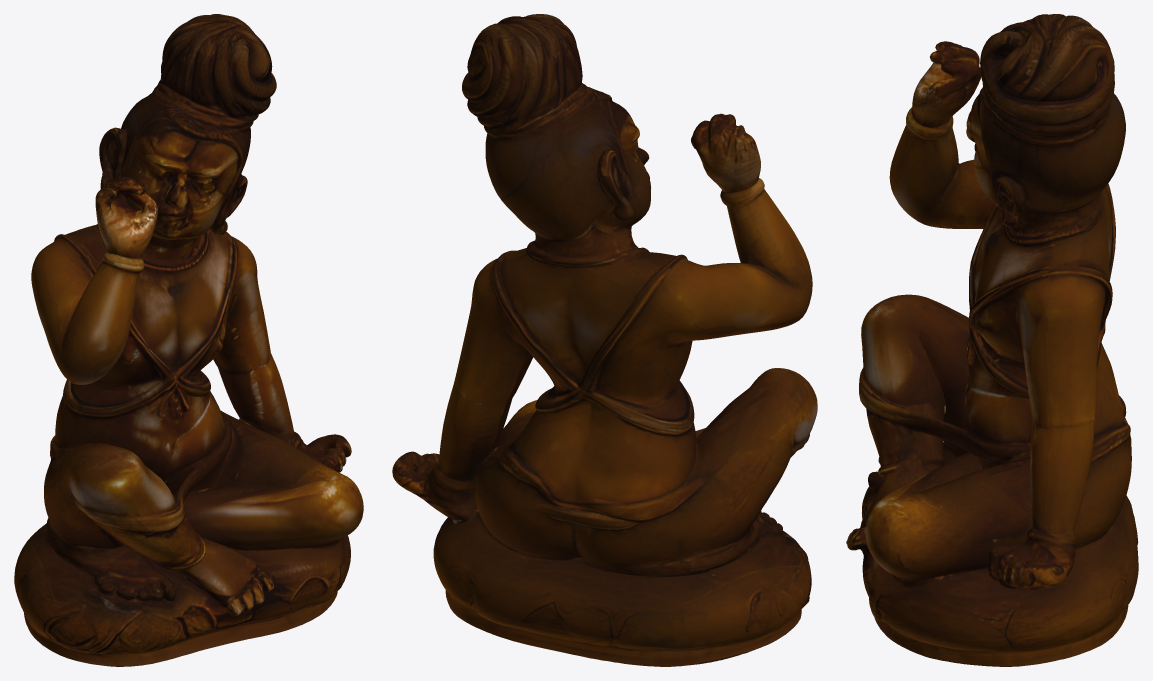
The picture shows the model from 3 angles, left to right: view 1: azimuth 30°, elevation 25°; view 2: azimuth 150°, elevation 25°; view 3: azimuth 270°, elevation 25°; orthographic projection. The views are drawn at different scales.
Visible parts, largest first — view 1: textured_mesh; view 2: textured_mesh; view 3: textured_mesh.
Part boxes in pixels (bbox=[...]): textured_mesh: bbox=[14, 14, 363, 666]; textured_mesh: bbox=[392, 14, 817, 666]; textured_mesh: bbox=[846, 14, 1138, 666].
Size of the model in its own units: 1.31 by 1.99 by 0.876.
Materials: 1 (1 with a texture image).
